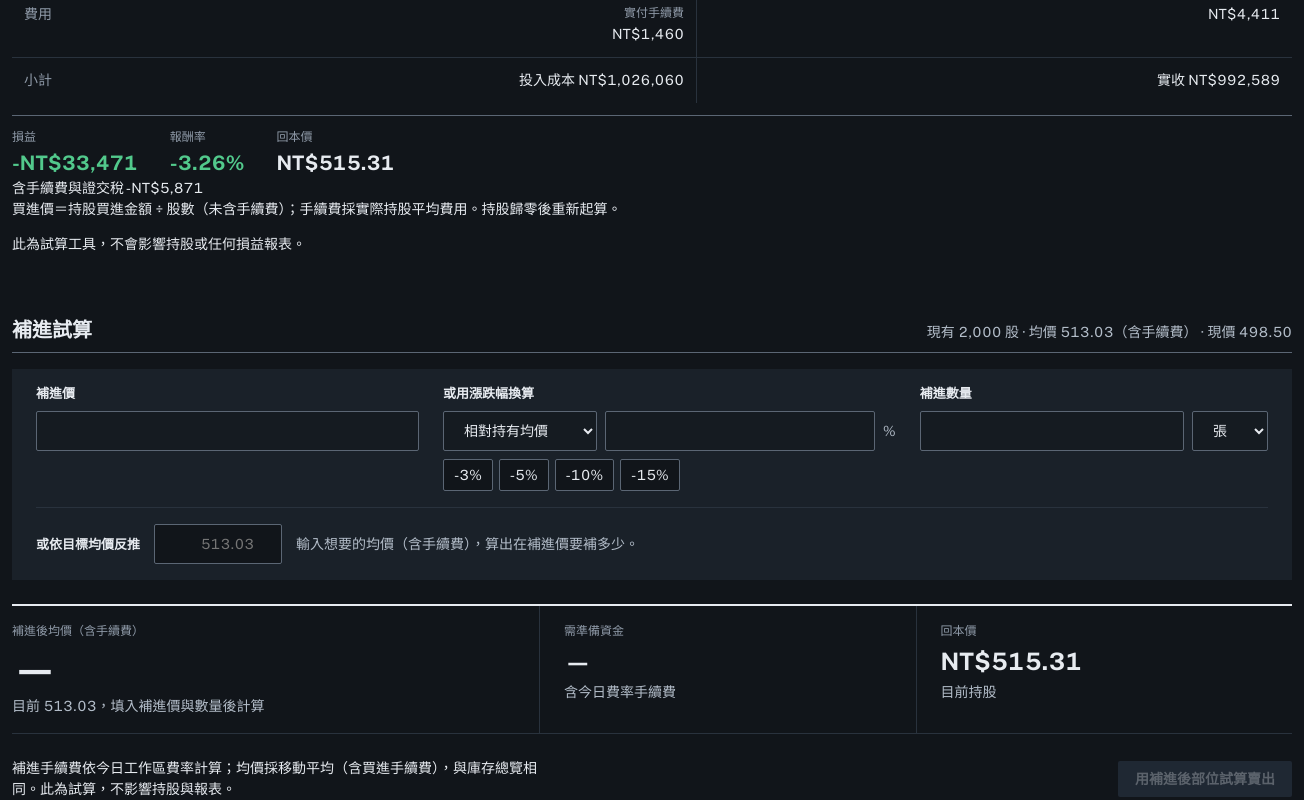
Test: WhatIfTab 賣出試算＋補進試算（Task 197） › 改用現價換算，取最近的可下單價位
(page scrolled)
Select "相對現價" in the dropdown named "漲跌幅基準" at (520, 431), box [443,411,597,451]
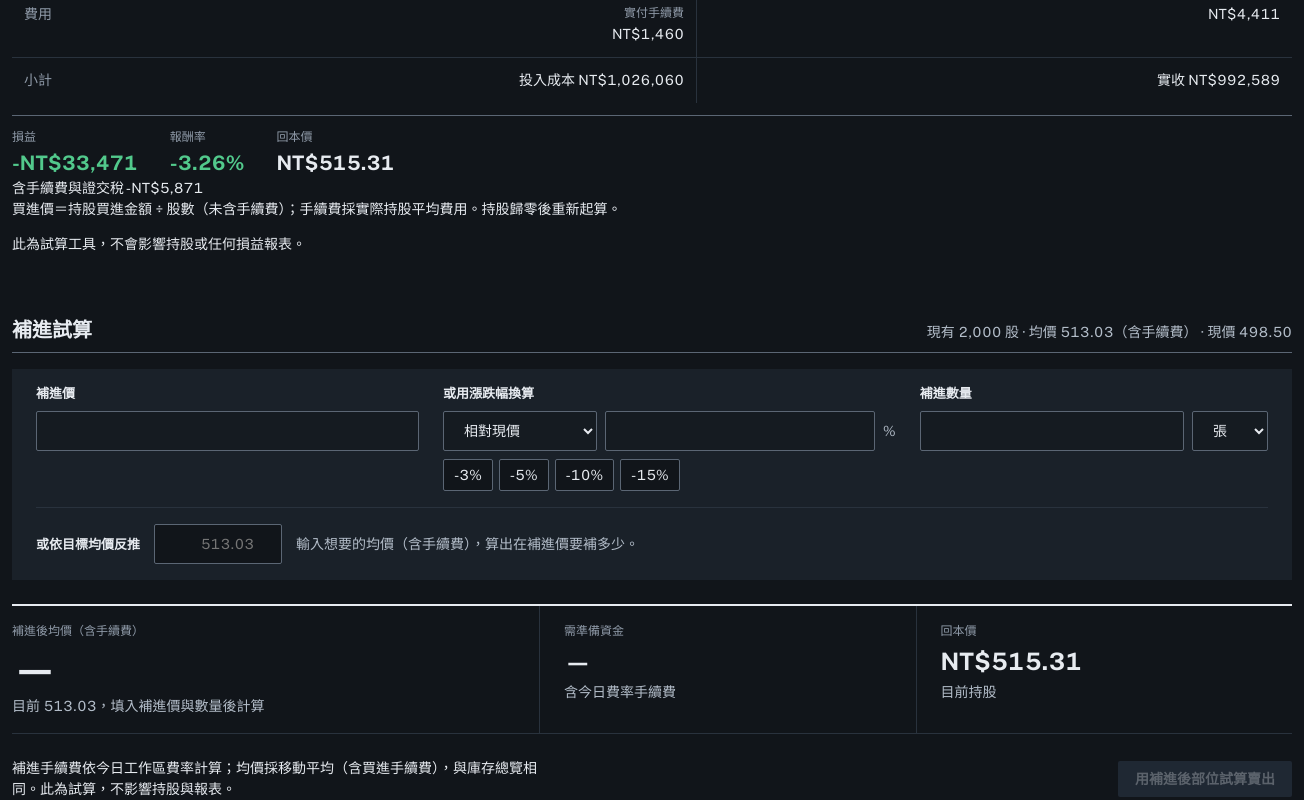
Click the button "-5%" at (524, 475), box [499,459,549,491]
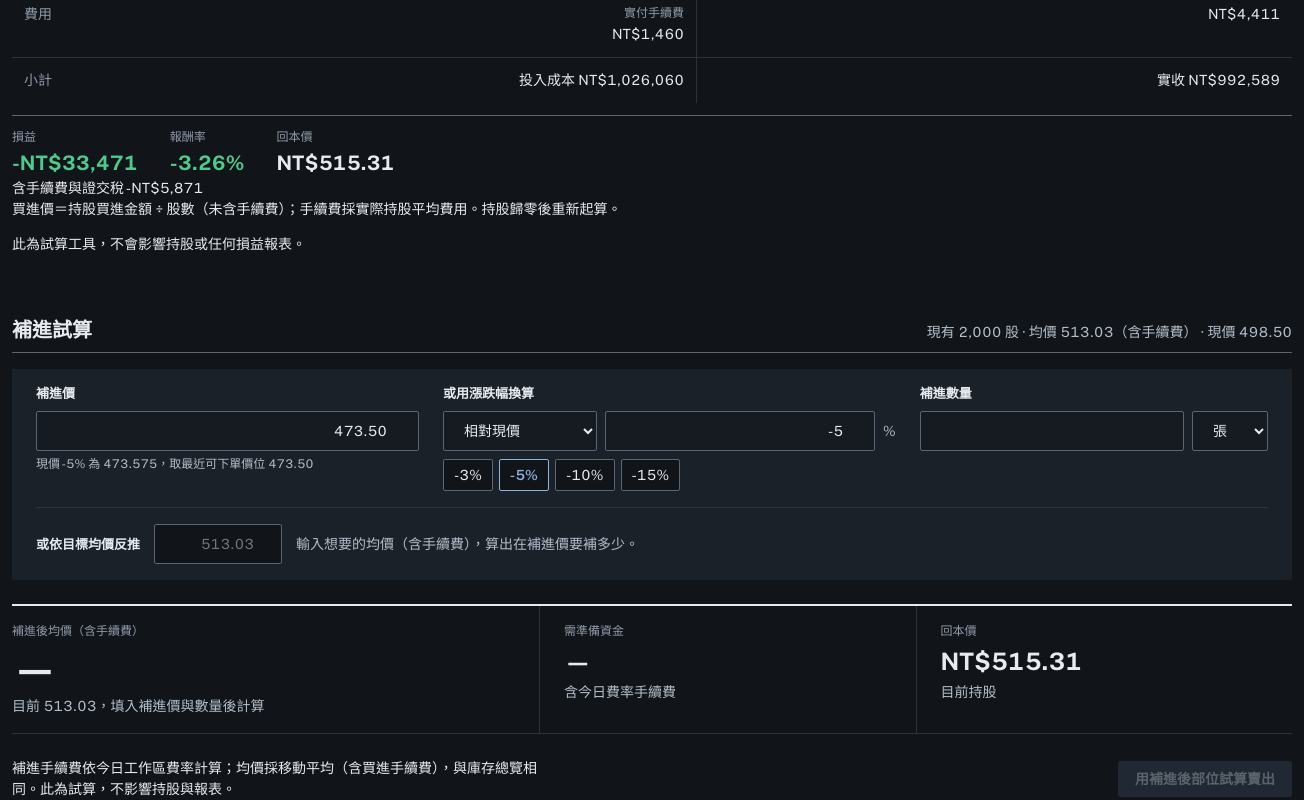
Result: the number field labelled "補進價" holds "473.50" at [36,411,419,451]
Result: the text with test id "addon-snap" reads "現價 -5% 為 473.575，取最近可下單價位 473.50" at [36,457,314,471]
